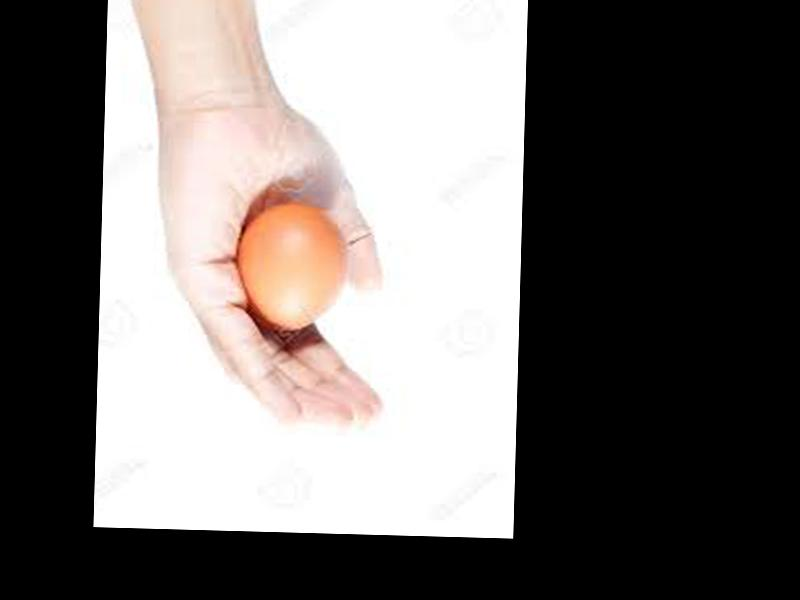Eggs: (238, 202, 347, 329)
